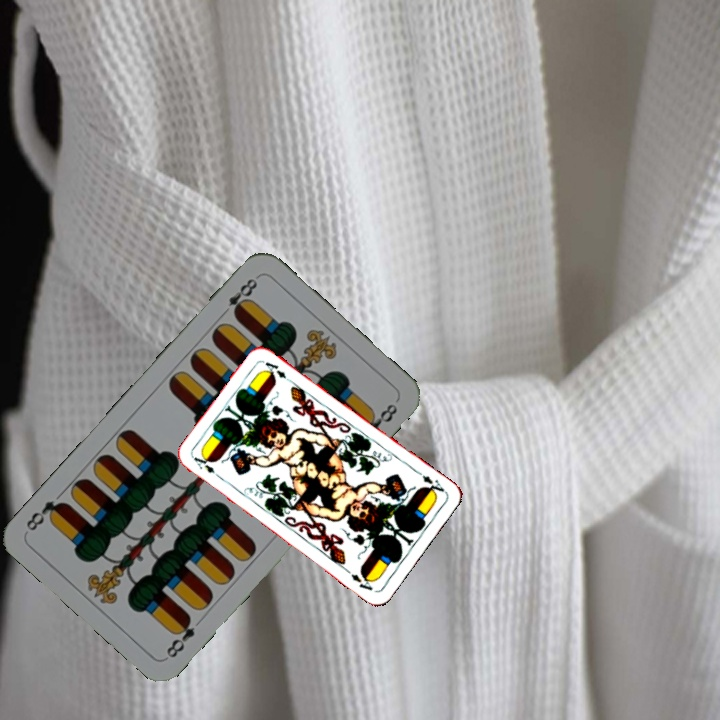E8: (216, 274, 260, 320), (162, 611, 198, 661)
EA: (412, 467, 448, 498), (189, 452, 218, 476)
